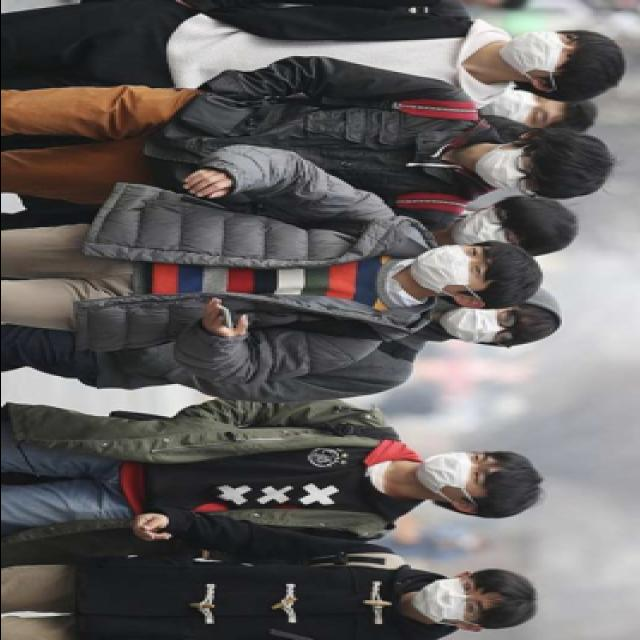with_mask: (496, 27, 580, 77), (414, 451, 496, 501), (474, 144, 542, 200), (410, 248, 489, 294), (443, 306, 525, 348), (417, 578, 489, 624), (484, 88, 558, 126), (456, 208, 518, 253)
